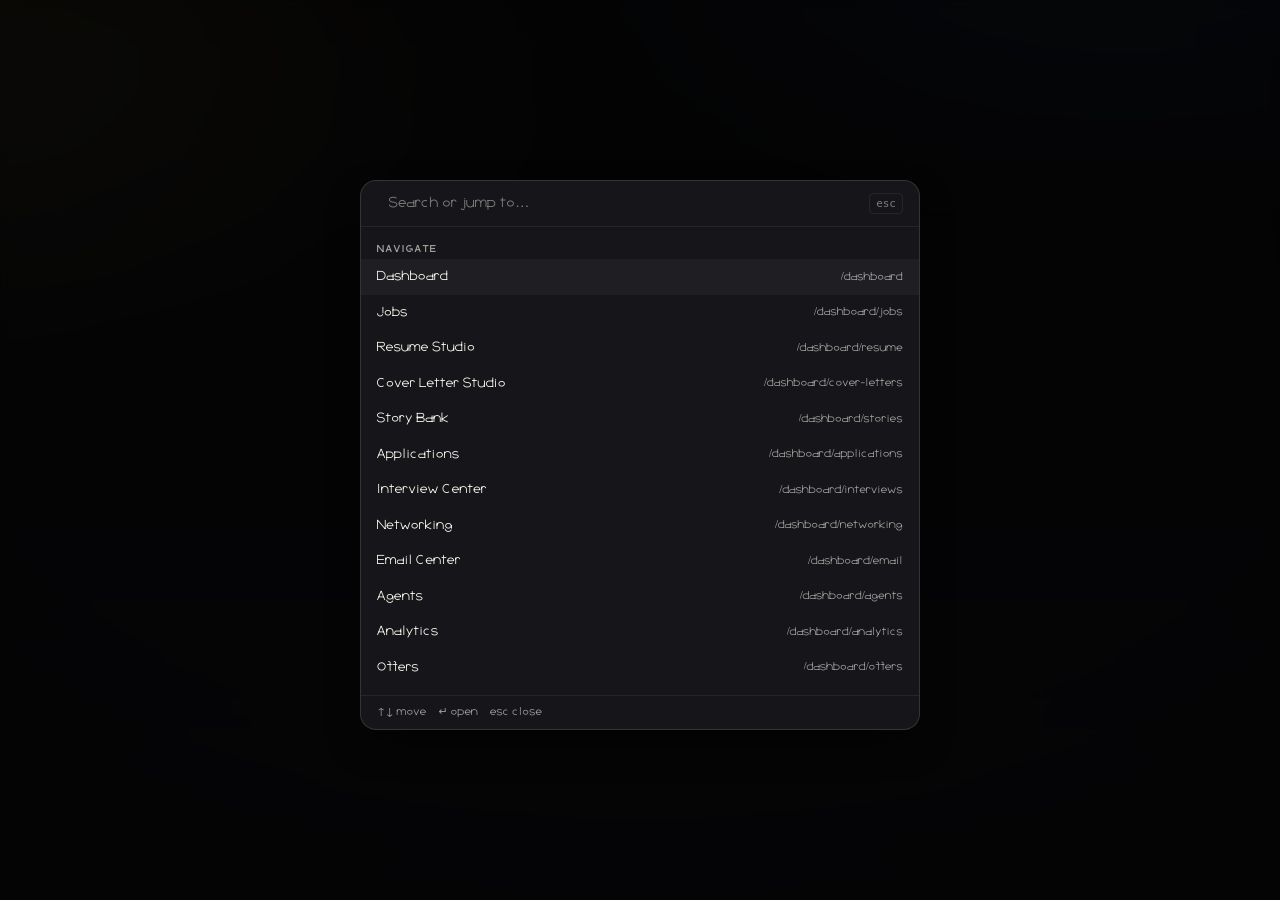
it: Command palette — wiring law (§1.6) › keeps the >= 2 character rule — a single character matches no jobs/applications/agents
This screenshot has width=1280, height=900.
Type "n" into the dropdown at x=623, y=204, box top-left (389, 193), bottom-right (857, 214)
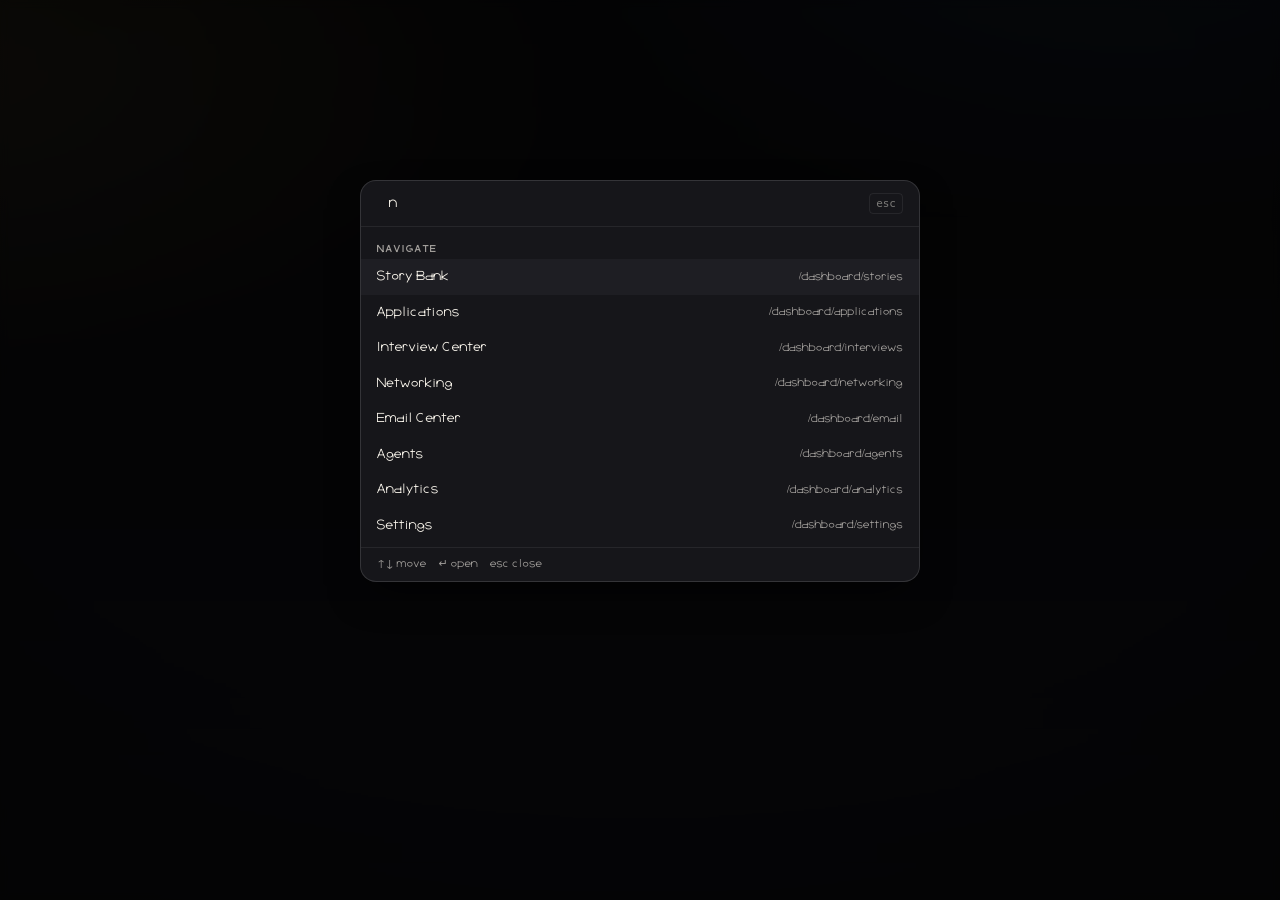
Now the option with test id "palette-row-/dashboard/jobs" is gone
